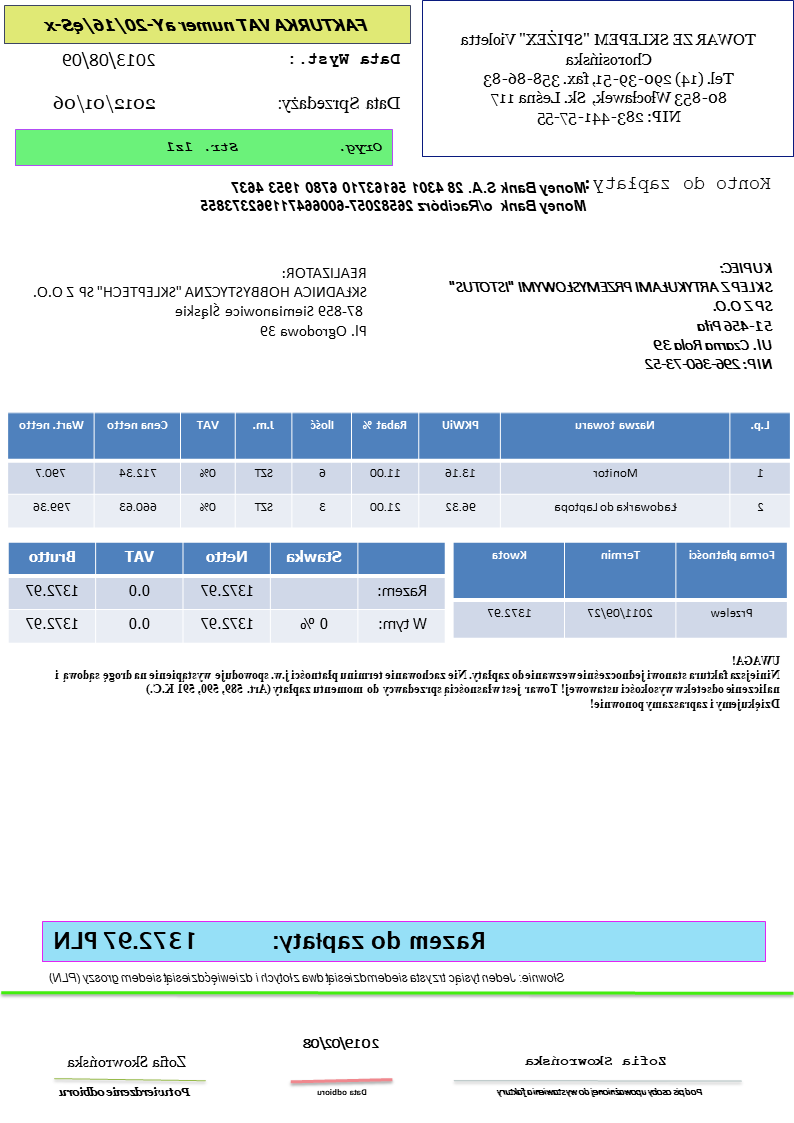Table: (5, 409, 792, 529), (6, 540, 447, 646), (451, 540, 789, 640)
TextBox: (49, 648, 785, 714), (445, 258, 777, 377), (455, 26, 764, 132), (30, 261, 373, 343), (52, 921, 491, 958), (197, 178, 592, 215), (47, 967, 569, 987), (37, 10, 371, 36), (162, 133, 386, 157), (584, 173, 776, 196), (493, 1084, 706, 1098), (277, 91, 406, 114), (286, 46, 406, 70), (522, 1051, 670, 1069), (51, 90, 161, 114), (58, 46, 159, 72), (60, 1051, 189, 1071), (56, 1085, 195, 1099), (299, 1032, 383, 1052), (314, 1083, 371, 1102)
